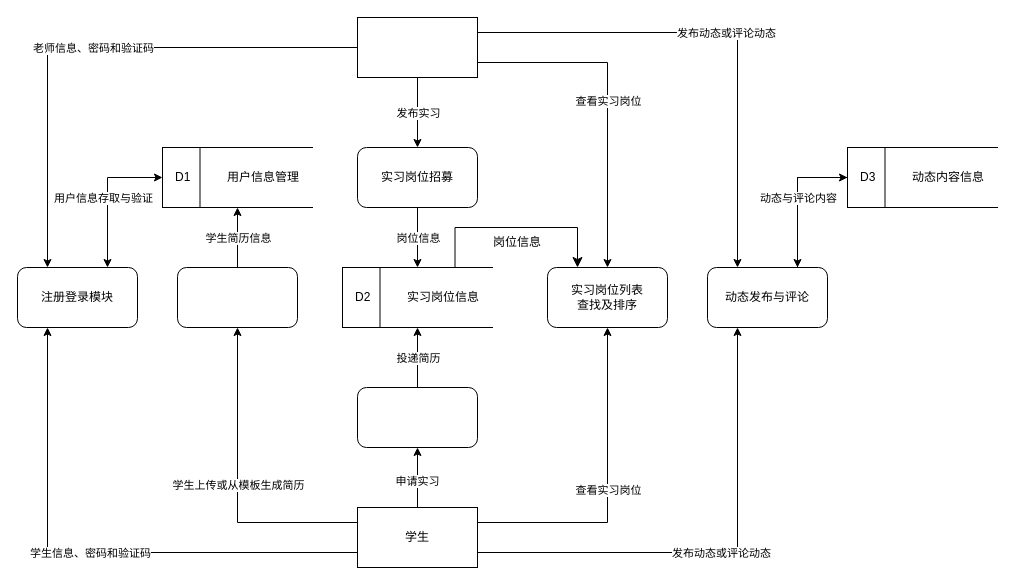
The diagram is 1015 pixels wide and 585 high, and some of its shapes have lost their labels. Each missing label, with the centre of its shape:
实习岗位报名: point (417, 417)
简历上传与生成: point (237, 297)
老师: point (417, 47)
